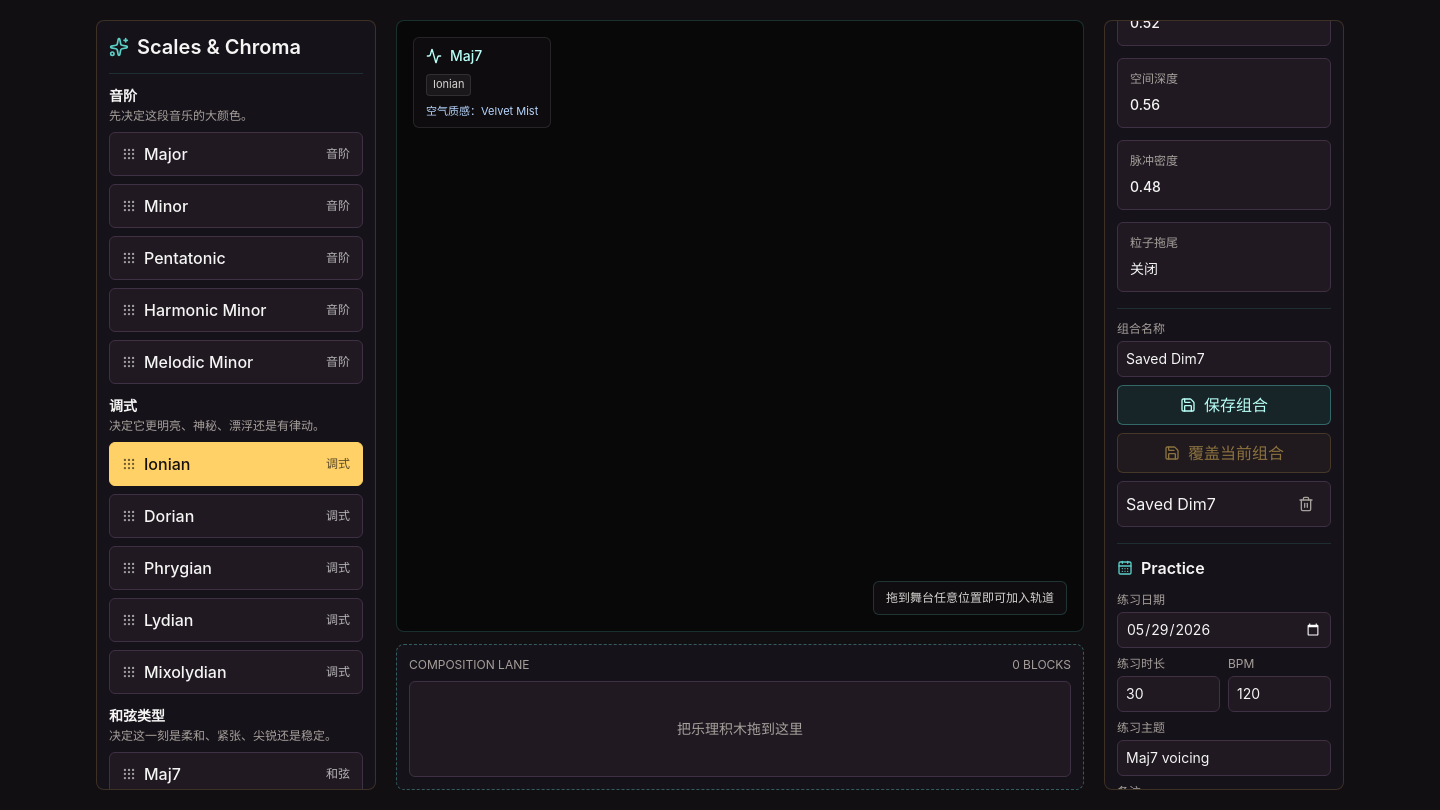
it: TheorySandbox › saves and reloads sandbox compositions
(page scrolled)
Check: the text "Saved Dim7" is shown, box [1126,494,1216,514]
What coordinates should you click on to do the following:
click the button "保存组合"
I would click on:
 (1224, 404)
Its box is [1117,384,1331,424].
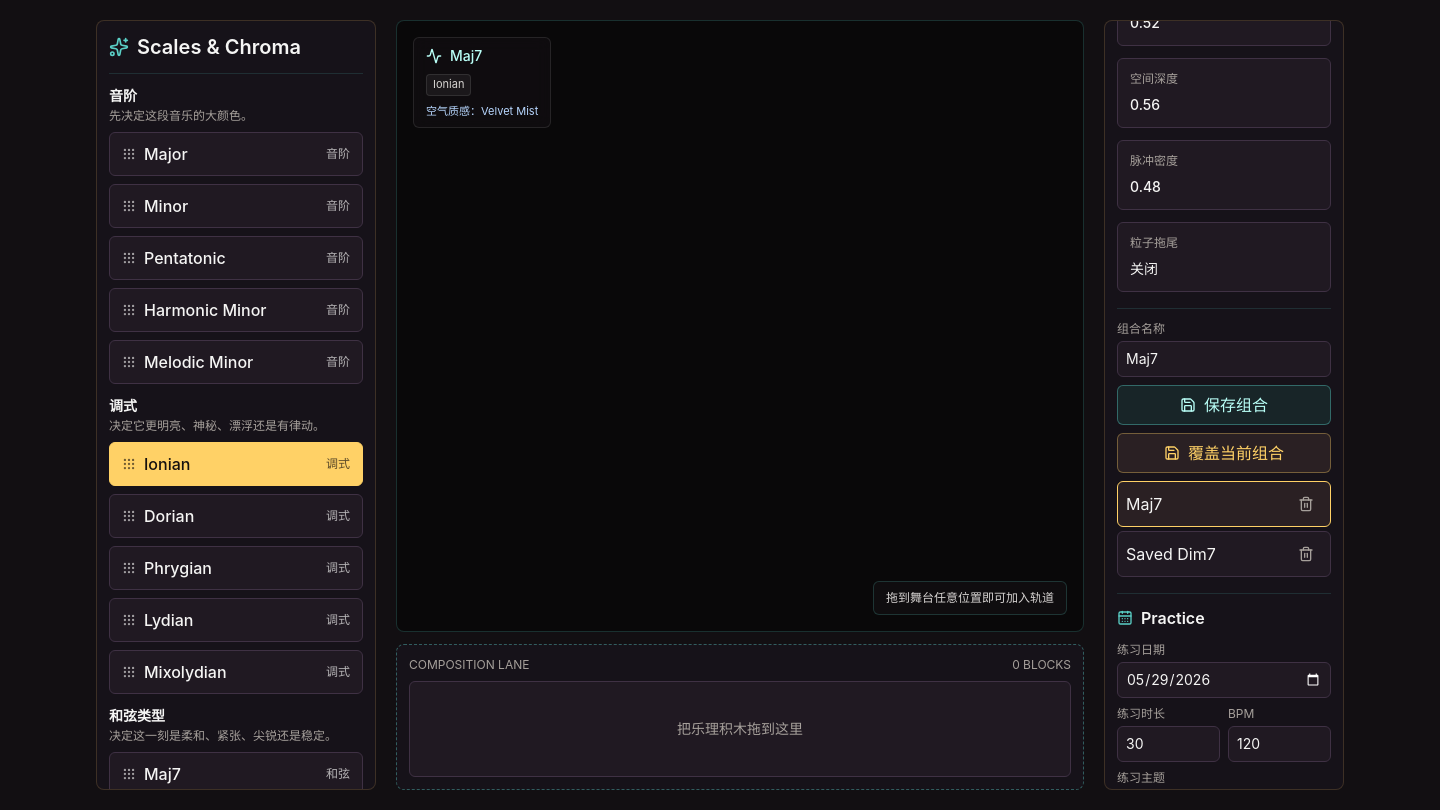
Check: the field showing "Maj7" is shown, box [1117,340,1331,376]
What coordinates should you click on to do the following:
click the button "Saved Dim7"
I would click on:
 (1204, 554)
Its box is [1126,542,1282,566].
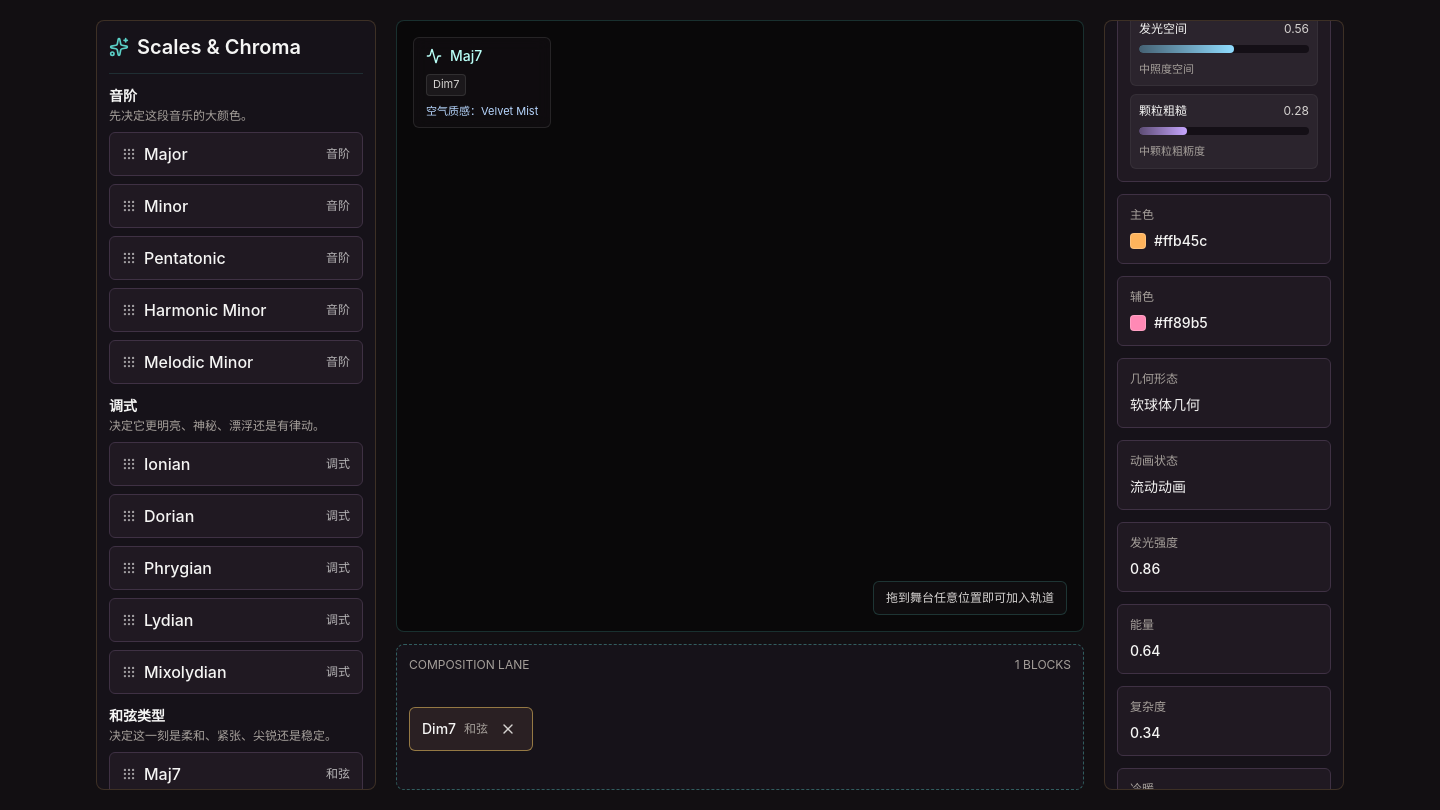
Check: the text "碎裂几何" is shown, box [1130,394,1200,414]
